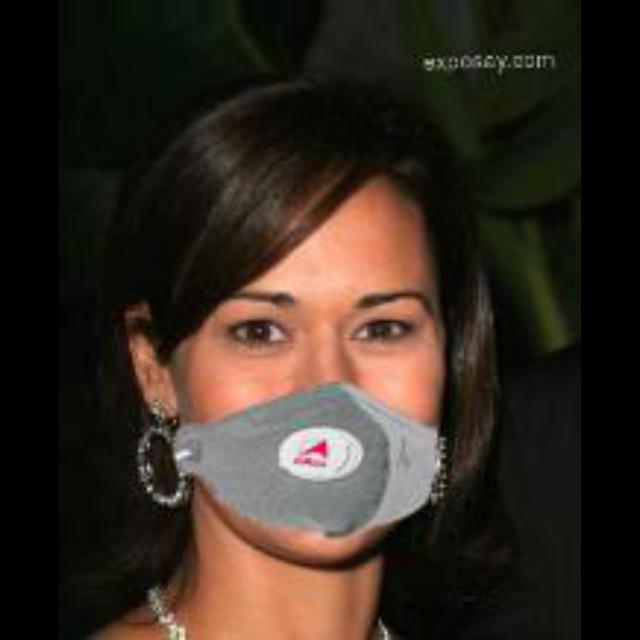suspicion: (134, 94, 522, 540)
